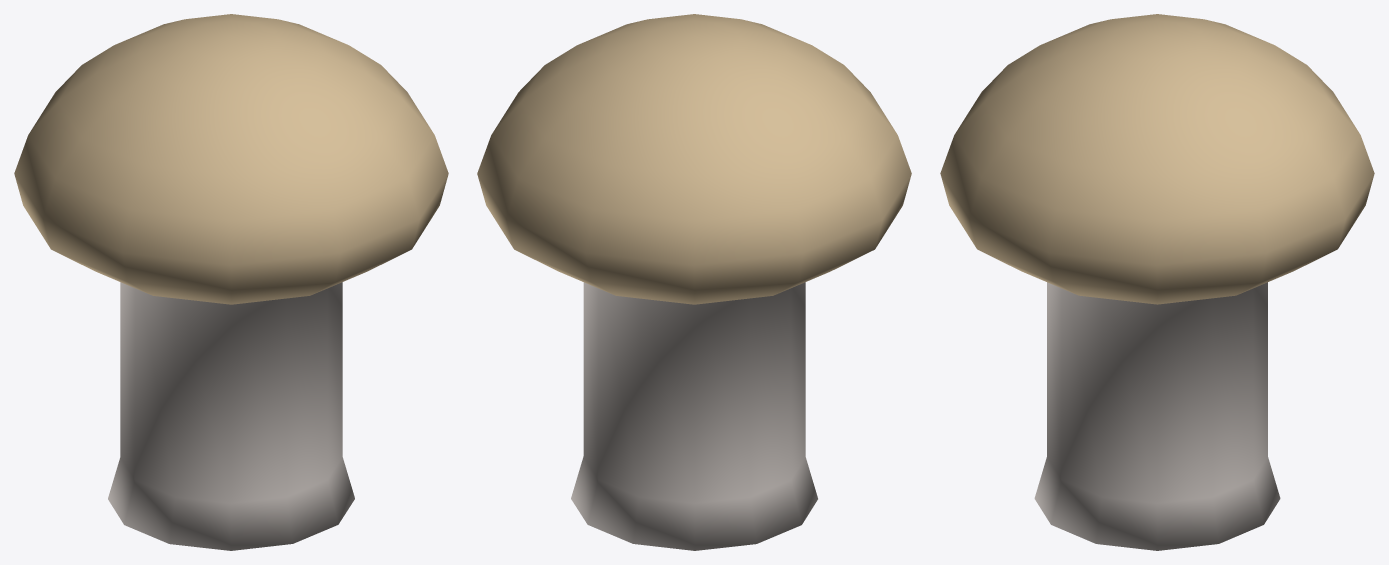
The model's file is Champignon_little.fbx.
The picture shows the model from 3 angles, left to right: view 1: azimuth 30°, elevation 25°; view 2: azimuth 150°, elevation 25°; view 3: azimuth 270°, elevation 25°; orthographic projection.
Parts seen in each view (by area): view 1: Champignon_little; view 2: Champignon_little; view 3: Champignon_little.
Boxes of the visible parts, box(x1,y1,x2,y2) form: Champignon_little: box(14, 14, 448, 550); Champignon_little: box(477, 14, 911, 550); Champignon_little: box(940, 14, 1374, 550).
Bounding box in the file's own units: 15.53 × 18.22 × 15.53.
